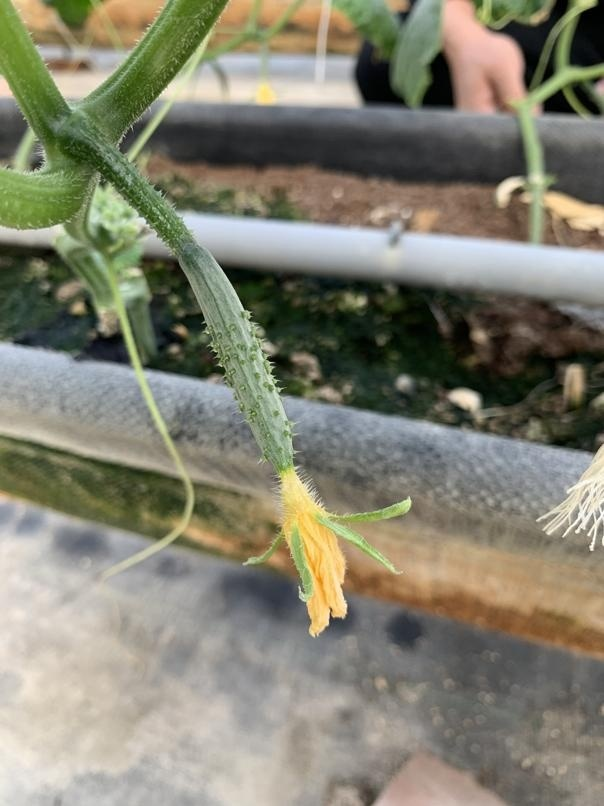bear: (128, 219, 417, 645)
